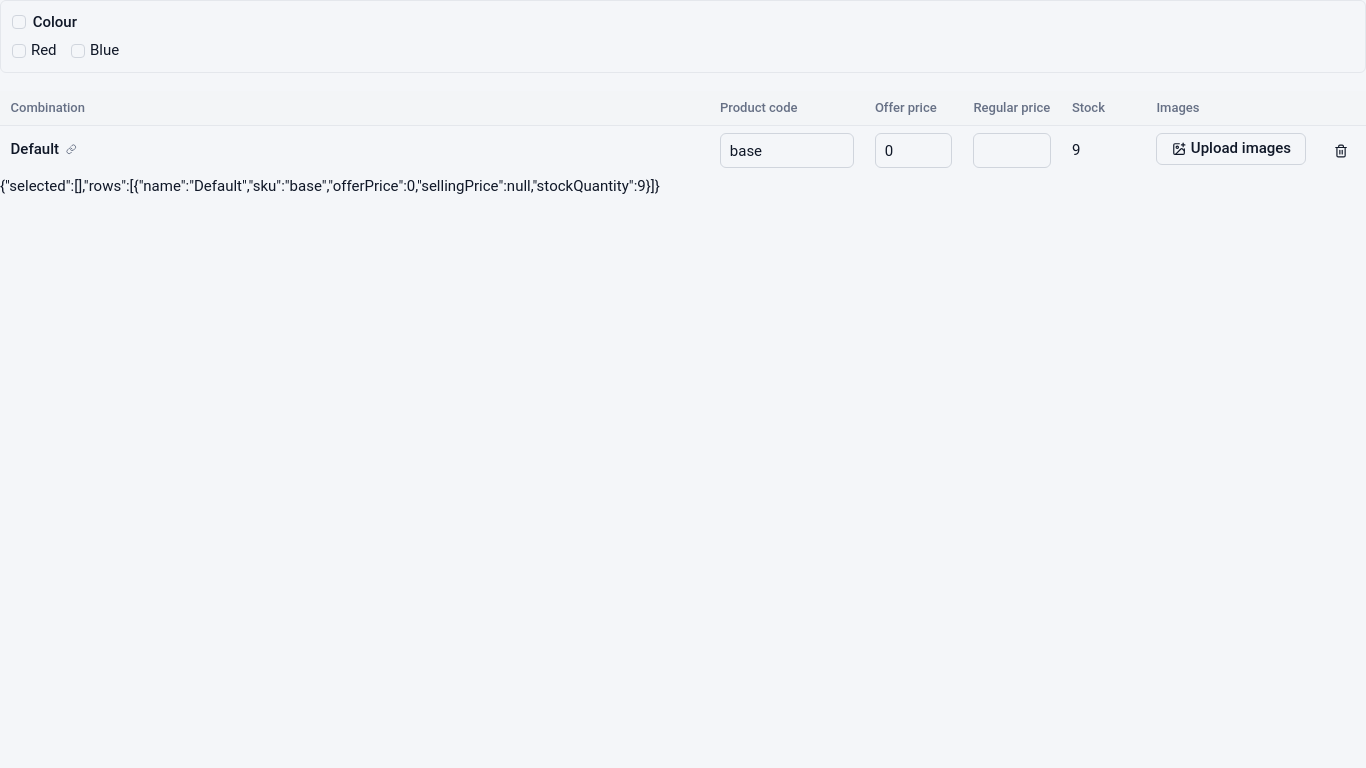
Test case: VariantEditor › leaves everything as it was when the merchant declines
The image size is (1366, 768).
Click the checkbox named "Red" next to "Red": (19, 51) 12,44 -> 26,58
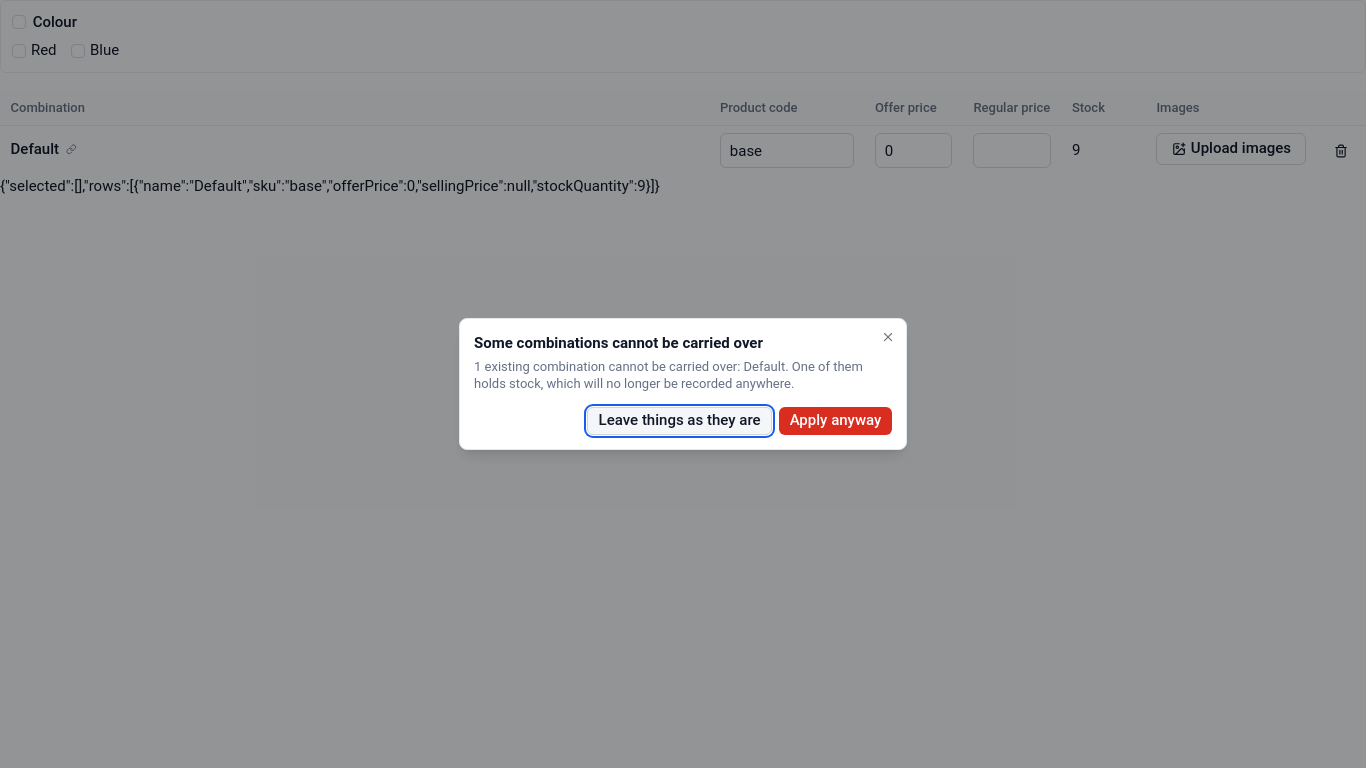
Click the button "Leave things as they are": (680, 421) 587,407 -> 772,435
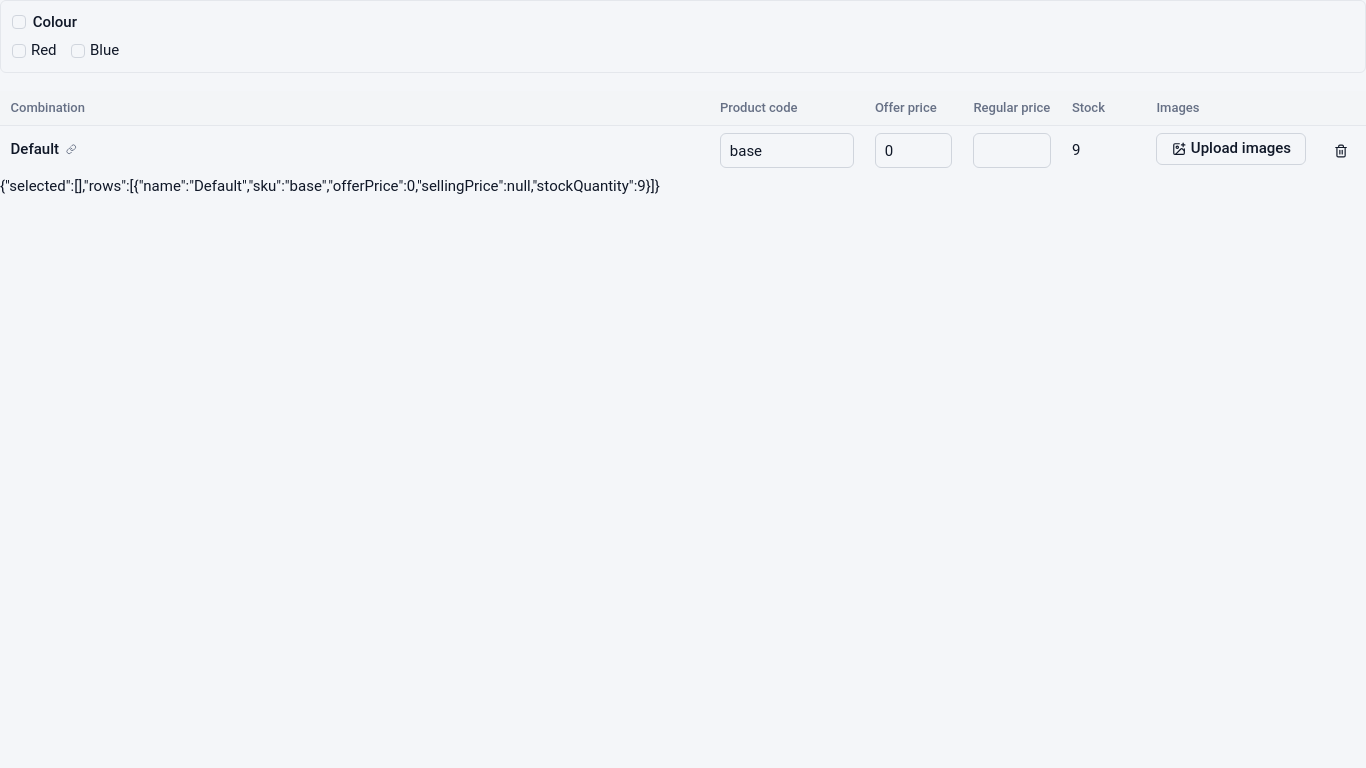
Expected: the dialog is gone
